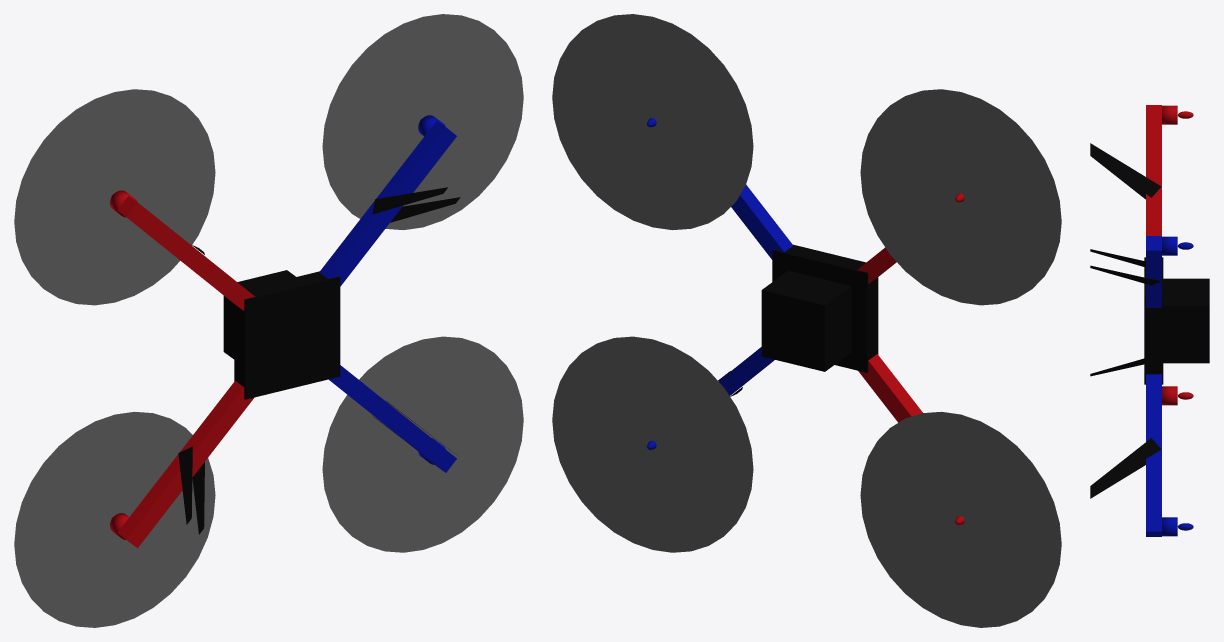
The model's file is 3dr_arducopter_quad_x.obj.
The picture shows the model from 3 angles, left to right: view 1: azimuth 30°, elevation 25°; view 2: azimuth 150°, elevation 25°; view 3: azimuth 270°, elevation 25°; orthographic projection. The views are drawn at different scales.
Parts seen in each view (by area): view 1: Prop.003_Circle.000_Gray_Plastic, Prop.001_Circle.002_Gray_Plastic, Prop.004_Circle.000_Gray_Plastic, Prop.002_Circle.002_Gray_Plastic, Base_Cube_Textolite, Arm.003_Cube.002_Black_Metal, Arm_Cube.004_Blue_Metal, Arm.002_Cube.002_Black_Metal, Arm.001_Cube.004_Blue_Metal, Leg.004_Plane.000_Textolite, Leg_Plane.001_Textolite, Body_Cube.001_Textolite; view 2: Prop.002_Circle.002_Gray_Plastic, Prop.004_Circle.000_Gray_Plastic, Prop.003_Circle.000_Gray_Plastic, Prop.001_Circle.002_Gray_Plastic, Body_Cube.001_Textolite, Base_Cube_Textolite, Arm_Cube.004_Blue_Metal, Arm.003_Cube.002_Black_Metal, Arm.001_Cube.004_Blue_Metal; view 3: Body_Cube.001_Textolite, Arm.001_Cube.004_Blue_Metal, Arm.002_Cube.002_Black_Metal, Base_Cube_Textolite, Leg.001_Plane.001_Textolite, Leg.003_Plane.000_Textolite, Arm_Cube.004_Blue_Metal, Leg_Plane.001_Textolite, Motor.001_Cylinder_Blue_Metal, Motor.003_Cylinder.001_Blue_Metal, Motor_Cylinder_Blue_Metal, Motor.004_Cylinder.001_Blue_Metal (+1 smaller).
Boxes of the visible parts, bbox=[...] form: Prop.003_Circle.000_Gray_Plastic: bbox=[14, 89, 215, 305]; Prop.001_Circle.002_Gray_Plastic: bbox=[322, 336, 523, 552]; Prop.004_Circle.000_Gray_Plastic: bbox=[14, 411, 215, 627]; Prop.002_Circle.002_Gray_Plastic: bbox=[322, 14, 523, 230]; Base_Cube_Textolite: bbox=[234, 271, 340, 399]; Arm.003_Cube.002_Black_Metal: bbox=[117, 381, 253, 548]; Arm_Cube.004_Blue_Metal: bbox=[319, 120, 456, 286]; Arm.002_Cube.002_Black_Metal: bbox=[117, 195, 255, 310]; Arm.001_Cube.004_Blue_Metal: bbox=[328, 365, 456, 472]; Leg.004_Plane.000_Textolite: bbox=[178, 446, 204, 534]; Leg_Plane.001_Textolite: bbox=[372, 187, 460, 222]; Body_Cube.001_Textolite: bbox=[223, 270, 295, 359]; Prop.002_Circle.002_Gray_Plastic: bbox=[552, 14, 753, 230]; Prop.004_Circle.000_Gray_Plastic: bbox=[860, 411, 1061, 627]; Prop.003_Circle.000_Gray_Plastic: bbox=[860, 89, 1061, 305]; Prop.001_Circle.002_Gray_Plastic: bbox=[552, 336, 753, 552]; Body_Cube.001_Textolite: bbox=[761, 270, 851, 371]; Base_Cube_Textolite: bbox=[772, 244, 878, 372]; Arm_Cube.004_Blue_Metal: bbox=[731, 184, 793, 259]; Arm.003_Cube.002_Black_Metal: bbox=[858, 354, 922, 422]; Arm.001_Cube.004_Blue_Metal: bbox=[718, 347, 774, 395]; Body_Cube.001_Textolite: bbox=[1163, 278, 1209, 363]; Arm.001_Cube.004_Blue_Metal: bbox=[1146, 374, 1161, 536]; Arm.002_Cube.002_Black_Metal: bbox=[1146, 105, 1161, 235]; Base_Cube_Textolite: bbox=[1144, 257, 1163, 384]; Leg.001_Plane.001_Textolite: bbox=[1090, 438, 1161, 498]; Leg.003_Plane.000_Textolite: bbox=[1090, 143, 1161, 199]; Arm_Cube.004_Blue_Metal: bbox=[1146, 236, 1161, 307]; Leg_Plane.001_Textolite: bbox=[1090, 249, 1160, 285]; Motor.001_Cylinder_Blue_Metal: bbox=[1162, 517, 1177, 536]; Motor.003_Cylinder.001_Blue_Metal: bbox=[1162, 105, 1177, 124]; Motor_Cylinder_Blue_Metal: bbox=[1162, 236, 1177, 255]; Motor.004_Cylinder.001_Blue_Metal: bbox=[1162, 386, 1177, 405].
Bounding box in the file's own units: 0.6429 × 0.6429 × 0.1497.
